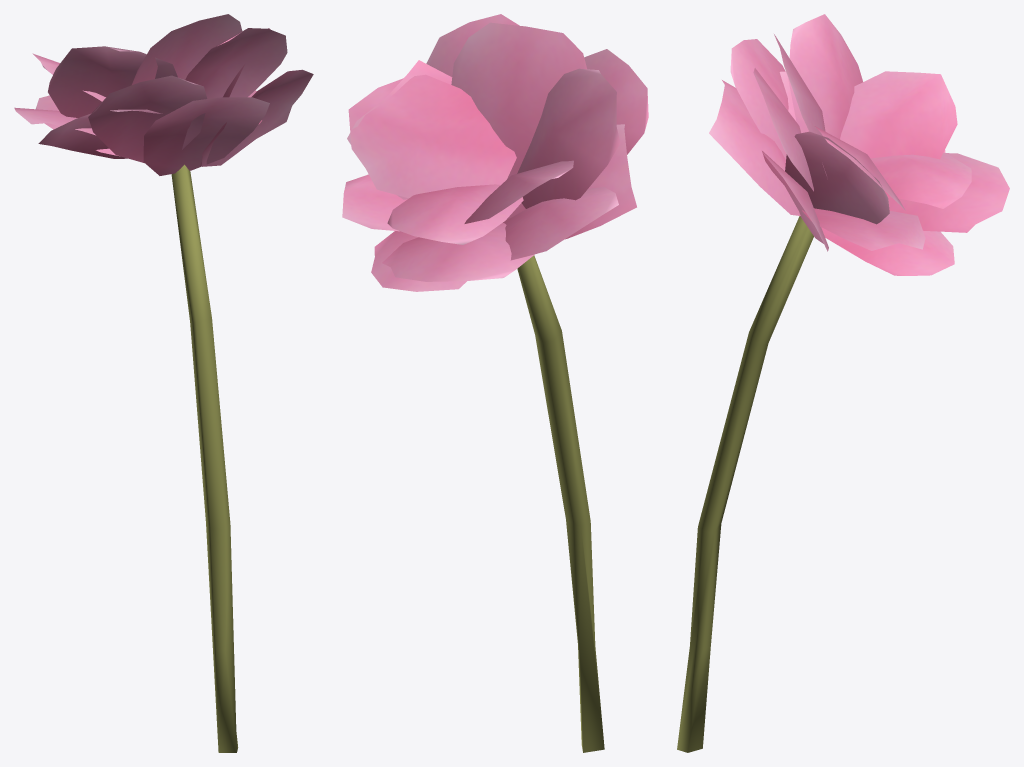
File: pinkTallSingle.fbx
3 views of the same model, side by side, from view 1: azimuth 30°, elevation 25°; view 2: azimuth 150°, elevation 25°; view 3: azimuth 270°, elevation 25° (orthographic). The views are drawn at different scales.
Parts seen in each view (by area): view 1: Cylinder.003, Cylinder.000; view 2: Cylinder.003, Cylinder.000; view 3: Cylinder.003, Cylinder.000.
Part boxes in pixels (bbox=[...]): Cylinder.003: bbox=[14, 14, 313, 175]; Cylinder.000: bbox=[171, 164, 238, 752]; Cylinder.003: bbox=[342, 14, 648, 291]; Cylinder.000: bbox=[517, 255, 604, 752]; Cylinder.003: bbox=[709, 14, 1009, 275]; Cylinder.000: bbox=[677, 216, 813, 752].
Size of the model in its own units: 46.35 by 120 by 51.09.
Materials: 2 (1 with a texture image).
